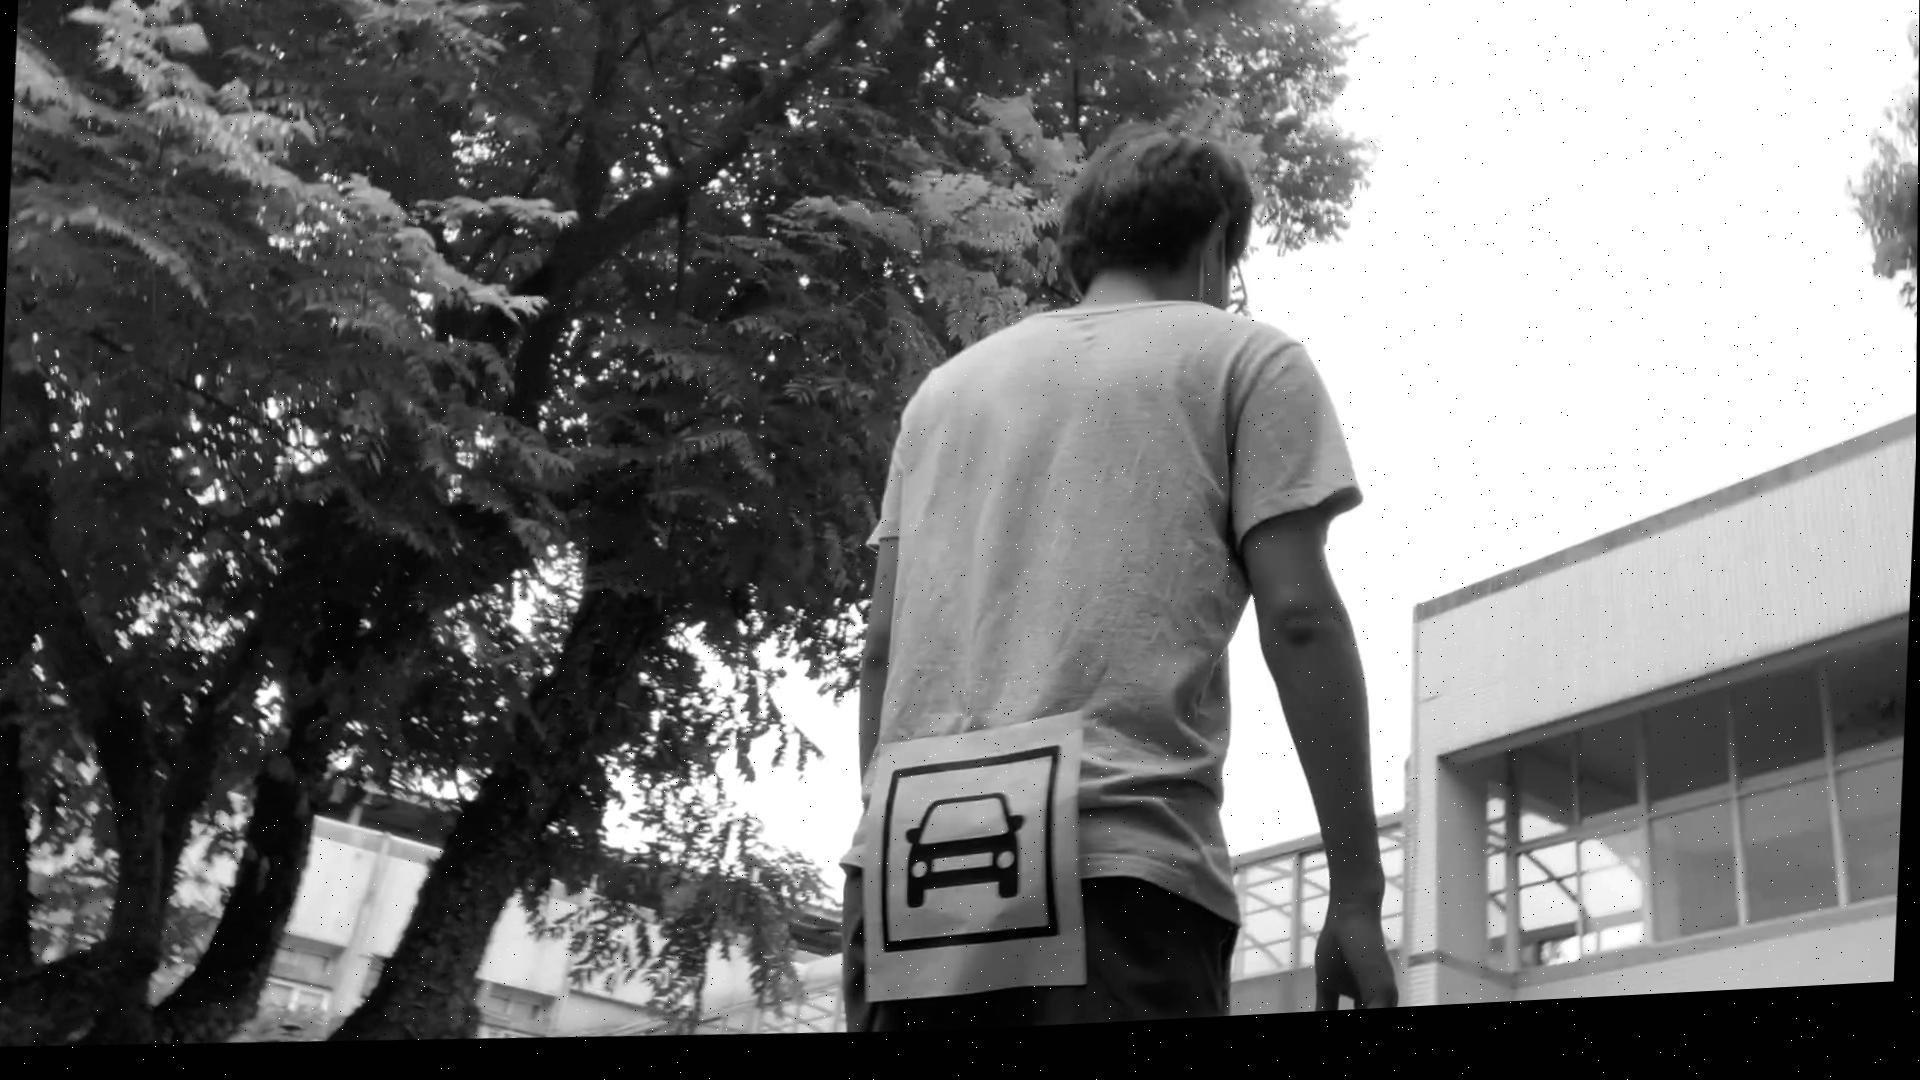car_img: (878, 749, 1069, 969)
